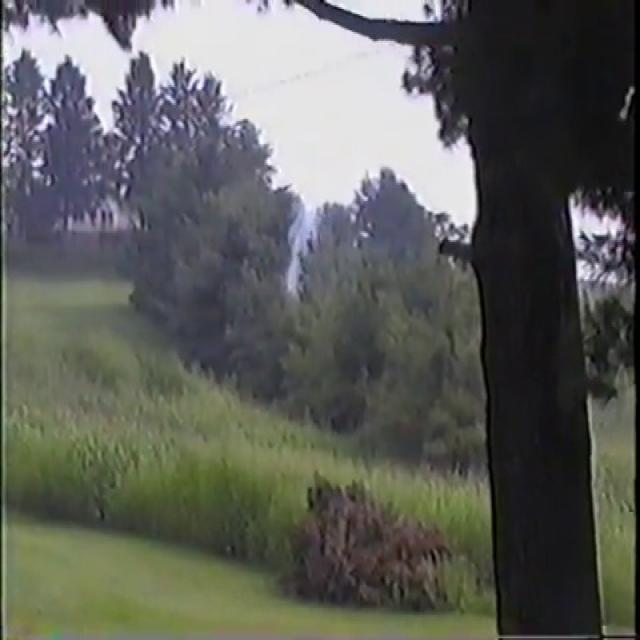Smoke: (282, 174, 326, 297)
